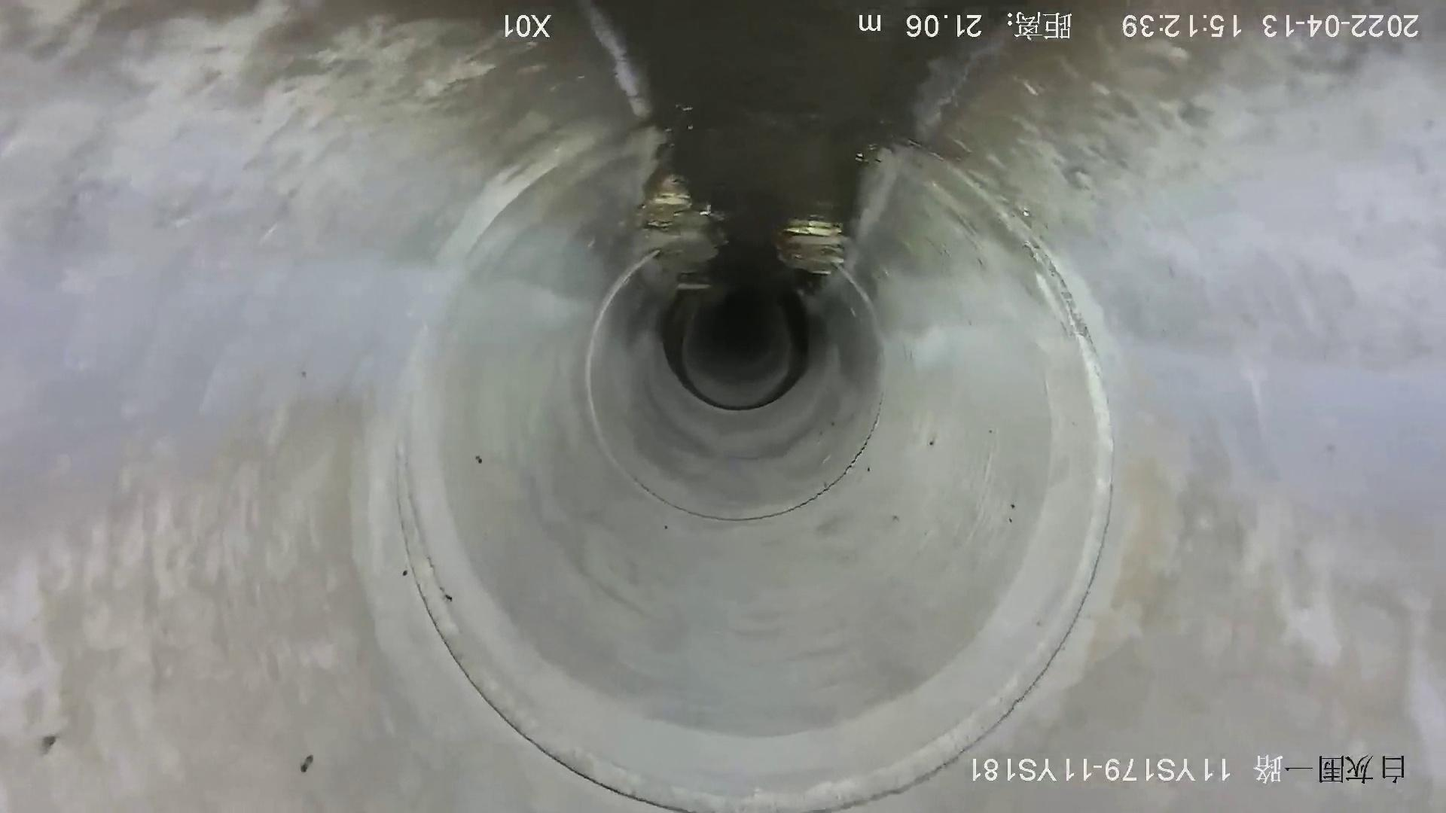CKTJ: (397, 200, 1114, 813)
JG: (636, 166, 728, 288), (771, 218, 847, 277)
